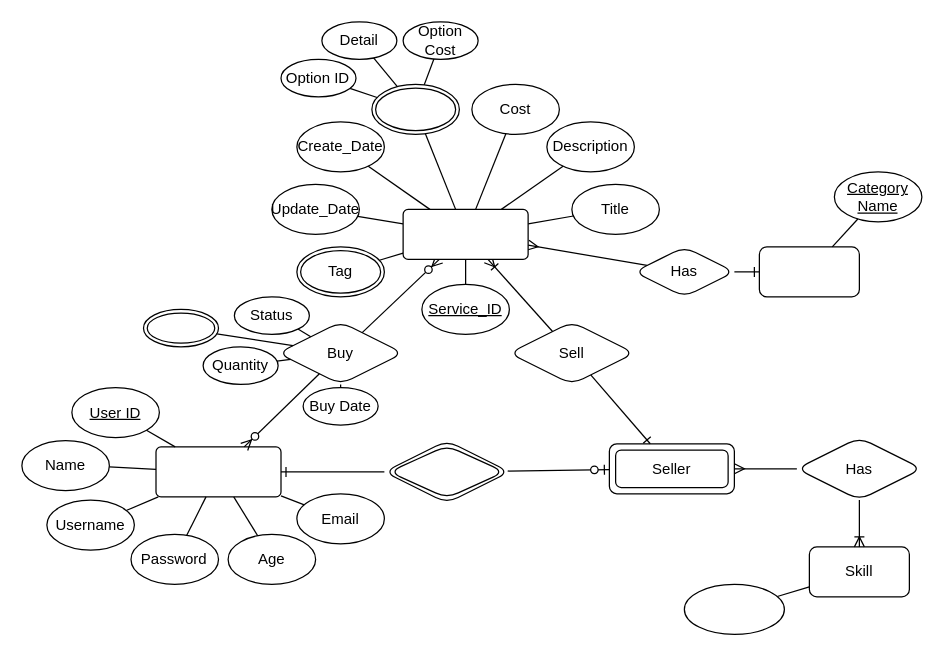
The diagram is 944 pixels wide and 656 high, and some of its shapes have lost their labels. Each missing label, with the box of its shape:
Buyer: (155, 446, 281, 497)
Category: (758, 246, 859, 297)
Extra Options: (371, 83, 459, 134)
Options: (142, 308, 218, 347)
Register: (383, 439, 509, 503)
Service: (402, 208, 528, 259)
Skill Name: (683, 583, 784, 634)
